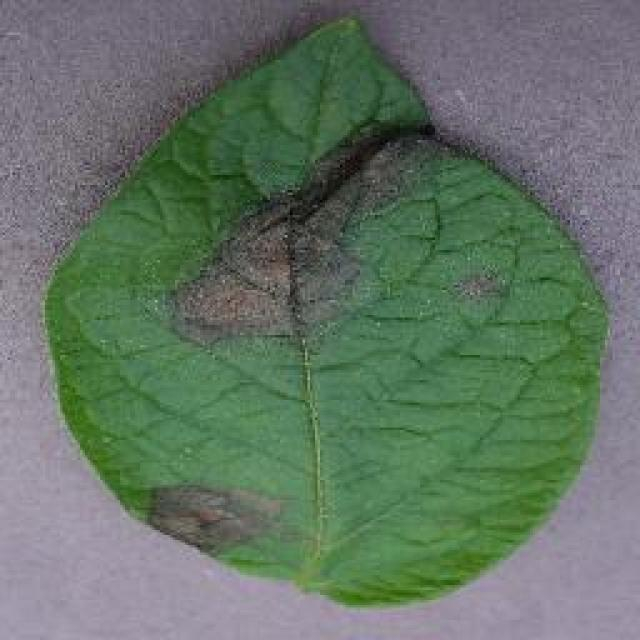late_blight: (38, 12, 612, 612)
